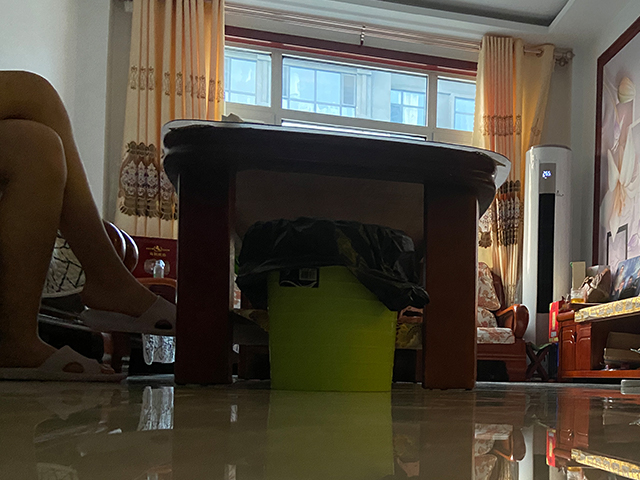cabinet: (553, 295, 640, 384)
curtain: (119, 1, 183, 241), (477, 32, 529, 297)
sofa: (475, 259, 531, 384)
stool: (524, 339, 558, 383)
table: (157, 117, 513, 393)
trashcan: (240, 216, 418, 395)
